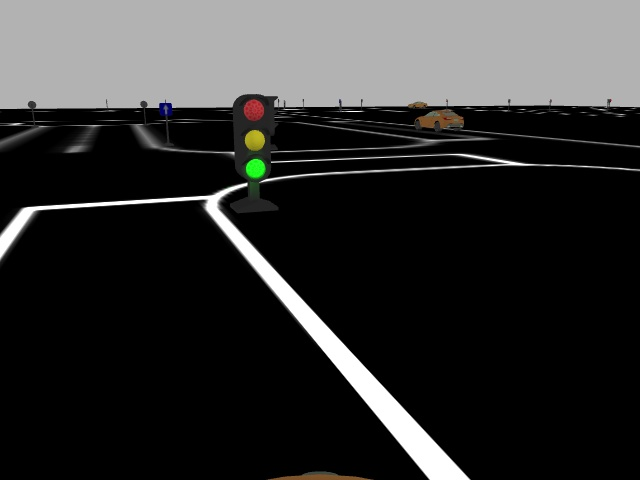green_light: (232, 93, 271, 187)
oneway: (158, 103, 173, 119)
